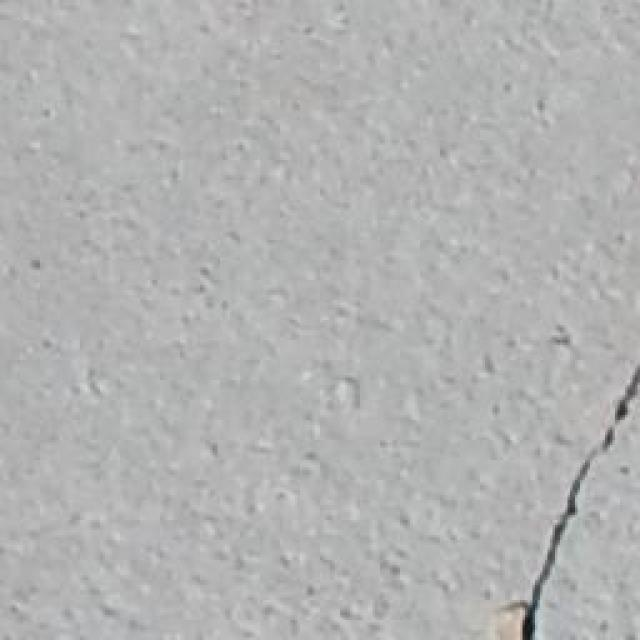concrete-crack: (512, 361, 640, 637)
